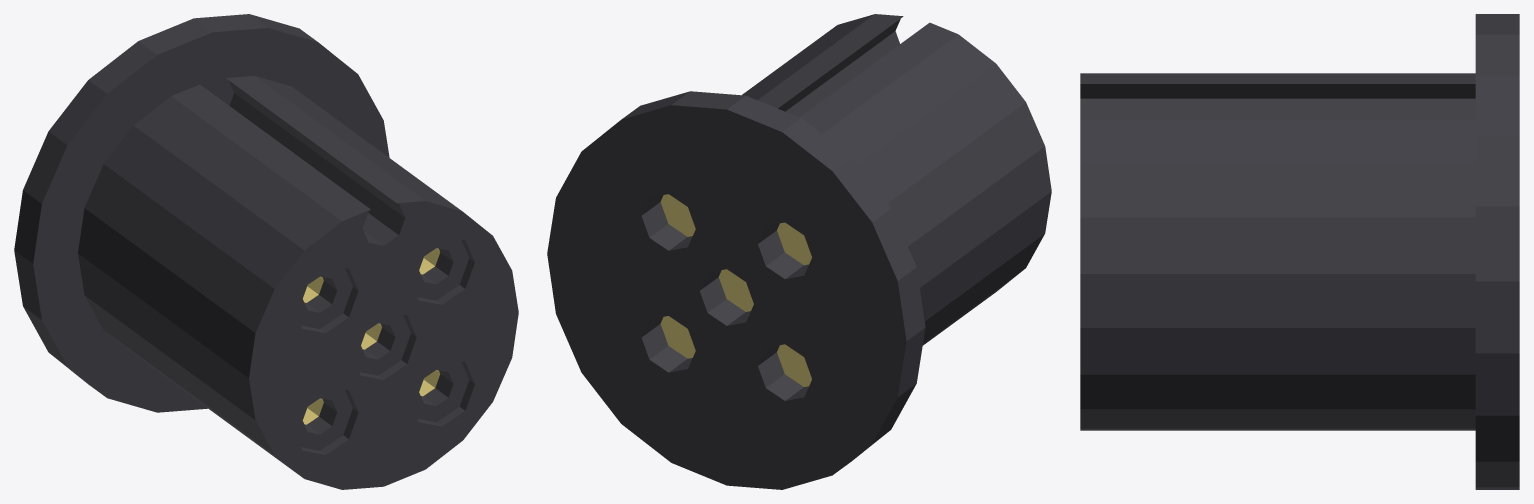
The model's file is insert-m12.glb.
3 views of the same model, side by side, from view 1: azimuth 30°, elevation 25°; view 2: azimuth 150°, elevation 25°; view 3: azimuth 270°, elevation 25° (orthographic). The views are drawn at different scales.
Visible parts, largest first — view 1: body; view 2: body, c2, c3, c5, c1, c4; view 3: body.
Part boxes in pixels (x1,y1,x2,y2): body: [14, 14, 518, 489]; body: [547, 14, 1051, 489]; c2: [660, 194, 695, 236]; c3: [660, 316, 695, 358]; c5: [719, 269, 753, 311]; c1: [777, 222, 811, 265]; c4: [777, 344, 811, 386]; body: [1080, 14, 1519, 489].
Size of what is drawn, in the model's own units: 0.0109 by 0.0109 by 0.01.
